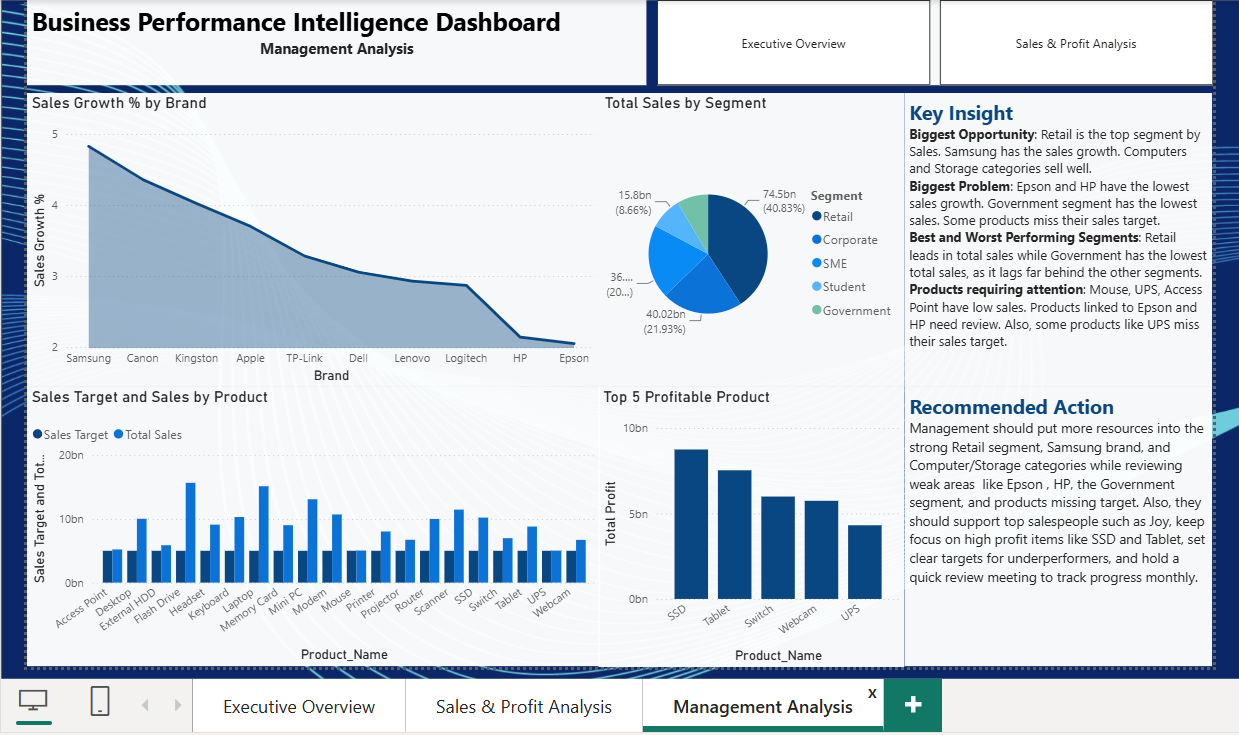

The dashboard page shown, as its layout file describes it:
{"tool":"powerbi","page":{"name":"Management Analysis","canvas":[1280,720],"ordinal":2},"visuals":[{"type":"pieChart","fields":{"Category":["Dim_Customers.Segment"],"Y":["Dim_Customers.Total Sales"]},"box":[618.5,100.4,328.7,317.4],"z":0},{"type":"lineClusteredColumnComboChart","title":"Sales Target and Sales by Product","fields":{"Category":["Dim_Products.Product_Name"],"Y":["Dim_Customers.Sales Target","Dim_Customers.Total Sales"]},"box":[0,417.8,618.5,301.2],"z":1},{"type":"stackedAreaChart","fields":{"Category":["Dim_Products.Brand"],"Y":["Dim_Customers.Sales Growth %"]},"box":[0,100.4,618.5,317.4],"z":2},{"type":"columnChart","title":"Top 5 Profitable Product","fields":{"Category":["Dim_Products.Product_Name"],"Y":["Dim_Customers.Total Profit"]},"box":[616.9,417.8,330.3,302.8],"z":3},{"type":"textbox","box":[0,0,668.7,92.3],"z":4},{"type":"textbox","box":[947.2,100.4,331.9,317.4],"z":5},{"type":"textbox","box":[948,418,332,301],"z":6},{"type":"pageNavigator","box":[680.1,0,600.7,92.3],"z":7}]}

Visuals, with their boxes on the page's 1280x720 design canvas (x1, y1, x2, y2). These are canvas units, not pixel positions in the 1239x735 screenshot, which may show the page scaled, cropped or inside an application window:
pieChart - Dim_Customers.Segment x Dim_Customers.Total Sales: pyautogui.locateOnScreen(618, 100, 947, 418)
"Sales Target and Sales by Product" lineClusteredColumnComboChart: pyautogui.locateOnScreen(0, 418, 618, 719)
stackedAreaChart - Dim_Products.Brand x Dim_Customers.Sales Growth %: pyautogui.locateOnScreen(0, 100, 618, 418)
"Top 5 Profitable Product" columnChart: pyautogui.locateOnScreen(617, 418, 947, 721)
textbox: pyautogui.locateOnScreen(0, 0, 669, 92)
textbox: pyautogui.locateOnScreen(947, 100, 1279, 418)
textbox: pyautogui.locateOnScreen(948, 418, 1280, 719)
pageNavigator: pyautogui.locateOnScreen(680, 0, 1281, 92)
